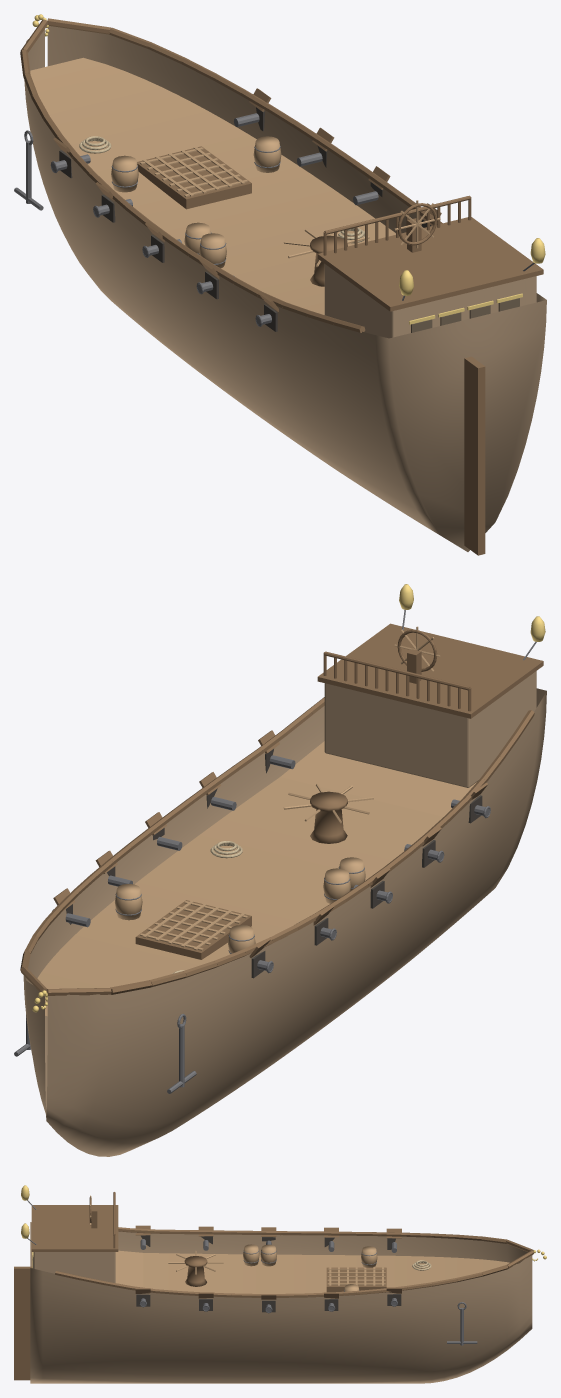
The model's file is ship_hull.glb.
3 renders of one model, top to bottom at view 1: azimuth 30°, elevation 25°; view 2: azimuth 150°, elevation 25°; view 3: azimuth 270°, elevation 25°, orthographic. The views are drawn at different scales.
Visible parts, largest first — view 1: ship_hull; view 2: ship_hull; view 3: ship_hull.
Part boxes in pixels (bbox=[...]): ship_hull: bbox=[14, 14, 546, 555]; ship_hull: bbox=[14, 584, 546, 1156]; ship_hull: bbox=[14, 1185, 546, 1383].
Size of the model in its own units: 6.72 by 8.23 by 21.23.
